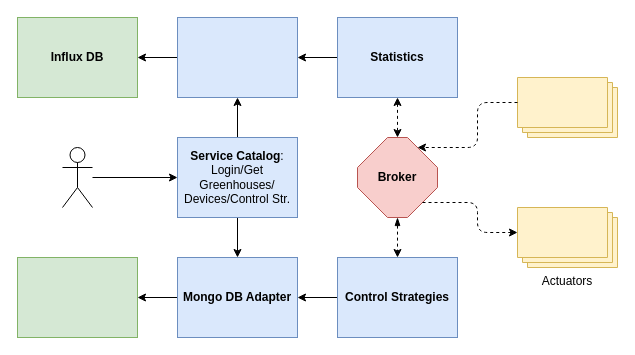
Some shapes in this 635 by 355 pixel diagram are drawn without their labels. Here are the shapes that lost their labels. From the top down, the centre of each, then its label:
point (237, 57): Influx DB Adaptor
point (567, 107): Raspberry Connectors
point (77, 177): User
point (77, 297): Mongo DB (catalog): Servizi / User Serre / Raspbery Connector
